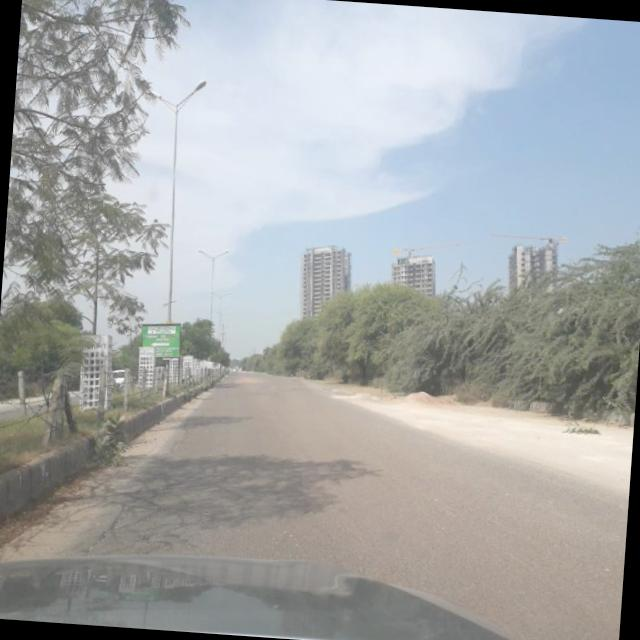pothole: (88, 393, 198, 554), (451, 443, 631, 536)
